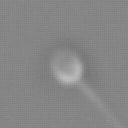normal: (77, 80, 122, 128)
